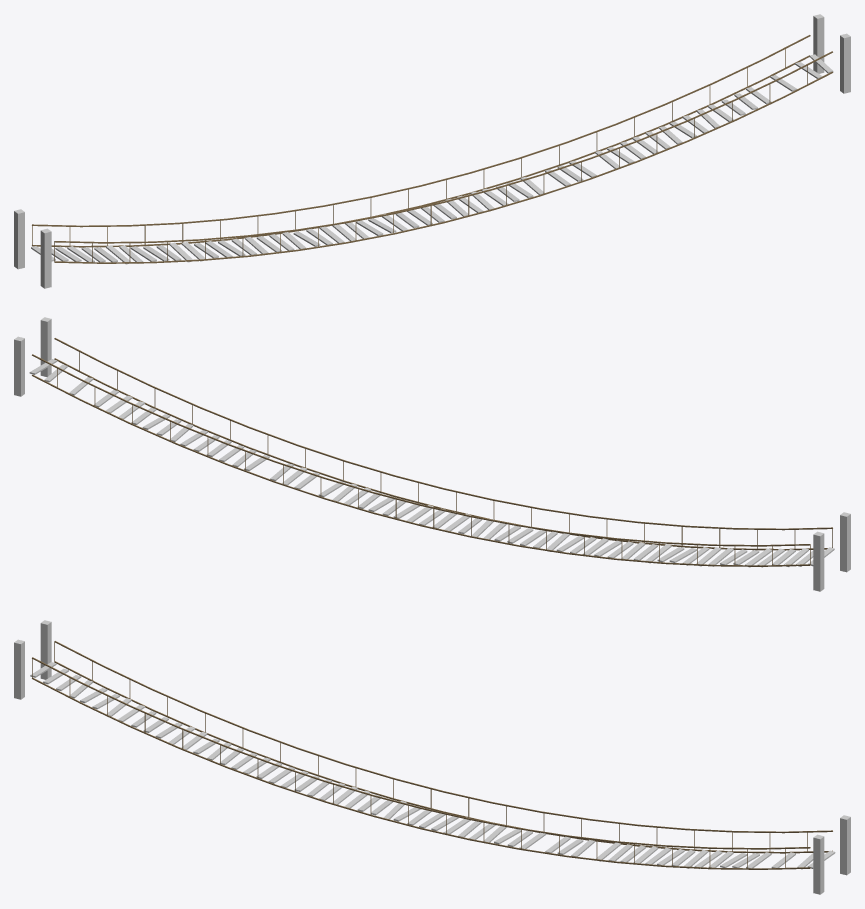
Rendered from rope_bridge.glb.
3 renders of one model, top to bottom at view 1: azimuth 30°, elevation 25°; view 2: azimuth 150°, elevation 25°; view 3: azimuth 330°, elevation 25°, orthographic.
Parts seen in each view (by area): view 1: rope_bridge_T_wood, rope_bridge_M_Rope; view 2: rope_bridge_T_wood, rope_bridge_M_Rope; view 3: rope_bridge_T_wood, rope_bridge_M_Rope.
Part boxes in pixels (box(x1,y1,x2,y2)): rope_bridge_T_wood: box(14, 14, 850, 288); rope_bridge_M_Rope: box(32, 35, 832, 263); rope_bridge_T_wood: box(14, 317, 850, 591); rope_bridge_M_Rope: box(32, 338, 832, 566); rope_bridge_T_wood: box(14, 620, 850, 894); rope_bridge_M_Rope: box(32, 641, 832, 869).
Bounding box in the file's own units: 45.6 × 4.98 × 3.
